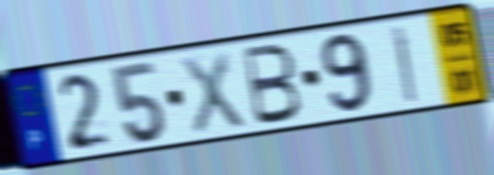2: (56, 70, 114, 153)
5: (107, 57, 167, 146)
9: (320, 30, 375, 117)
B: (241, 41, 304, 129)
I: (389, 22, 420, 106)
X: (177, 49, 248, 138)
